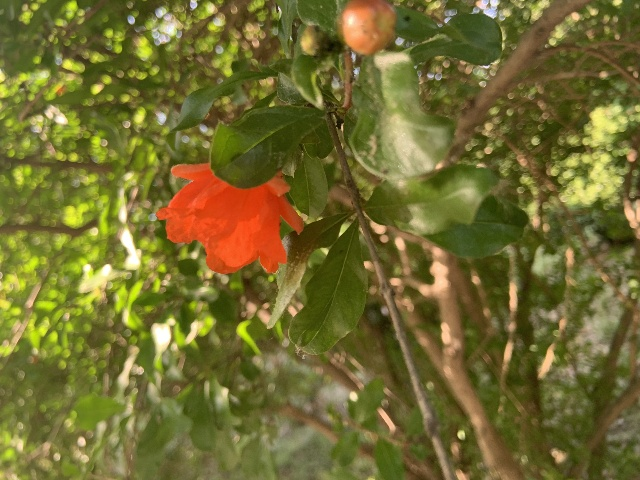bud: (338, 0, 395, 55)
flower: (156, 161, 304, 274)
